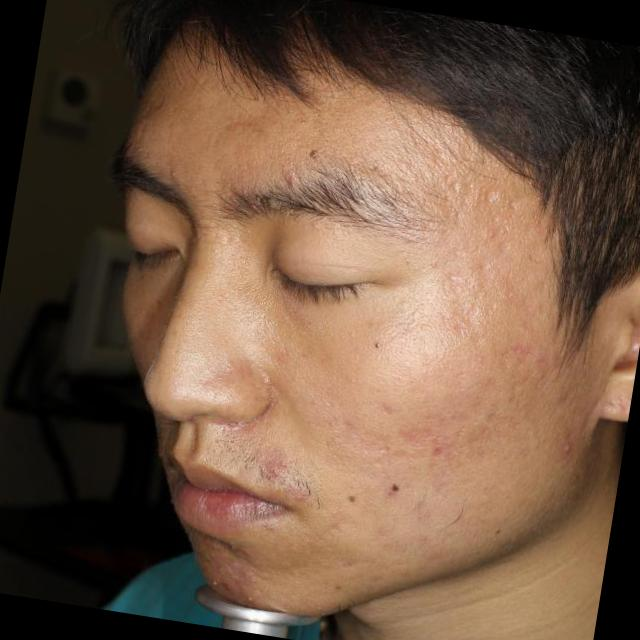acne: (420, 438, 450, 470), (204, 572, 229, 598), (558, 436, 578, 466), (241, 588, 265, 606)
